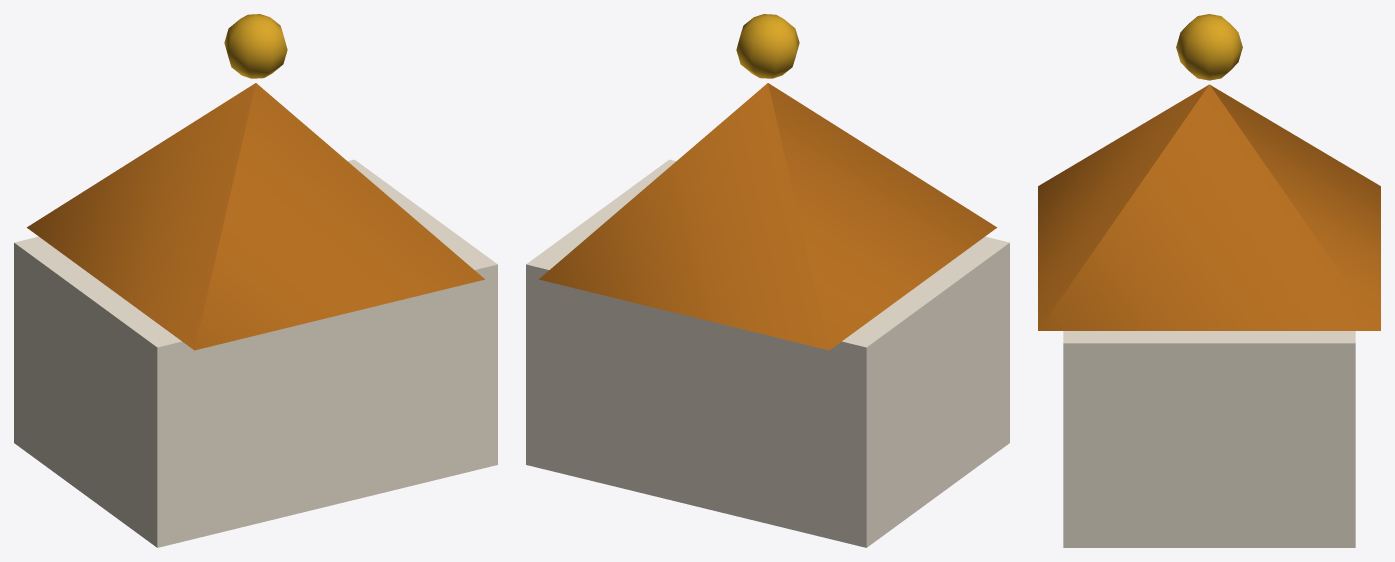
File: mini_sum_temple.glb
3 views of the same model, side by side, from view 1: azimuth 30°, elevation 25°; view 2: azimuth 150°, elevation 25°; view 3: azimuth 270°, elevation 25° (orthographic). The views are drawn at different scales.
Bounding box in the file's own units: 2.4 × 2.94 × 2.05.
